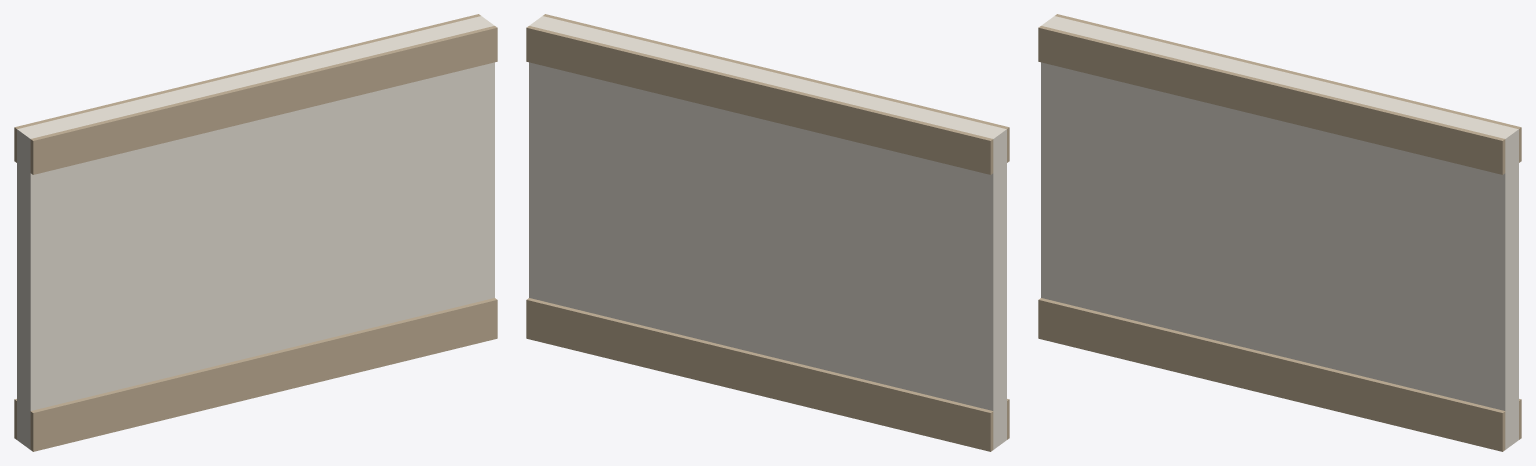
The model's file is partitionLow.glb.
The picture shows the model from 3 angles, left to right: view 1: azimuth 30°, elevation 25°; view 2: azimuth 150°, elevation 25°; view 3: azimuth 330°, elevation 25°; orthographic projection.
Visible parts, largest first — view 1: partitionLow; view 2: partitionLow; view 3: partitionLow.
Part boxes in pixels (bbox=[...]): partitionLow: bbox=[14, 14, 497, 451]; partitionLow: bbox=[526, 14, 1009, 451]; partitionLow: bbox=[1038, 14, 1521, 451].
Size of the model in its own units: 1 by 0.64 by 0.07.
Materials: 1 (1 with a texture image).
